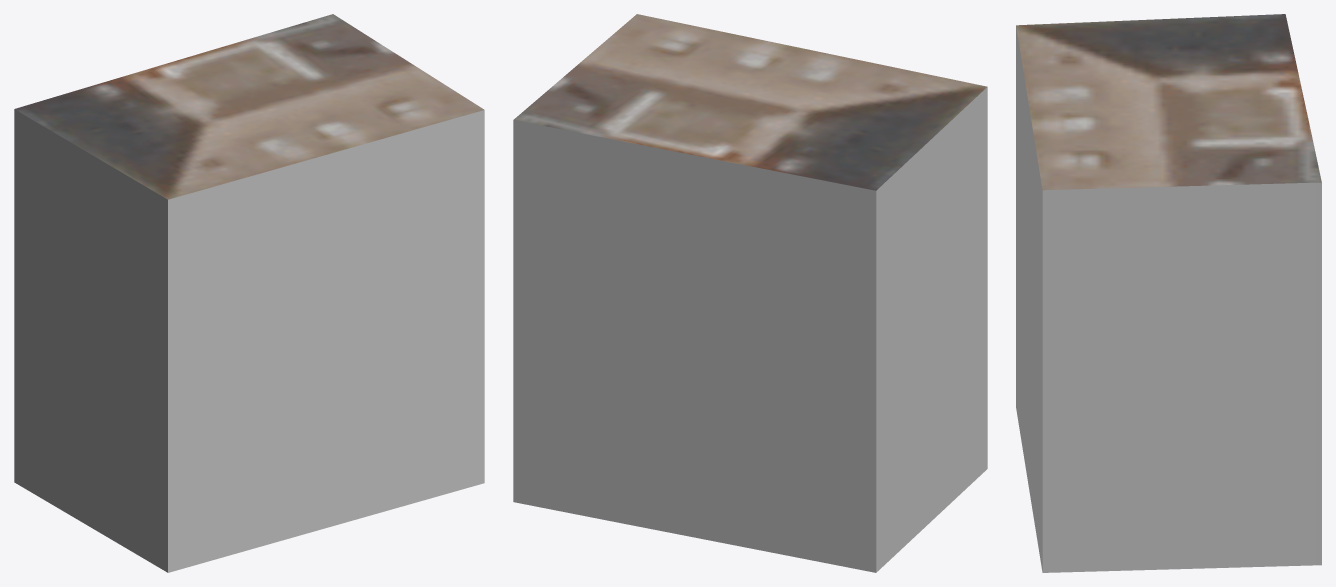
File: DEBW_0010007TxiK.gltf
The picture shows the model from 3 angles, left to right: view 1: azimuth 30°, elevation 25°; view 2: azimuth 150°, elevation 25°; view 3: azimuth 270°, elevation 25°; orthographic projection. The views are drawn at different scales.
Visible parts, largest first — view 1: Z_UP; view 2: Z_UP; view 3: Z_UP.
Boxes of the visible parts, left/top/right/bottom form: Z_UP: left=14, top=14, right=484, bottom=572; Z_UP: left=513, top=14, right=987, bottom=572; Z_UP: left=1016, top=14, right=1321, bottom=572.
Bounding box in the file's own units: 14.84 × 15.03 × 10.88.
Materials: 2 (1 with a texture image).
